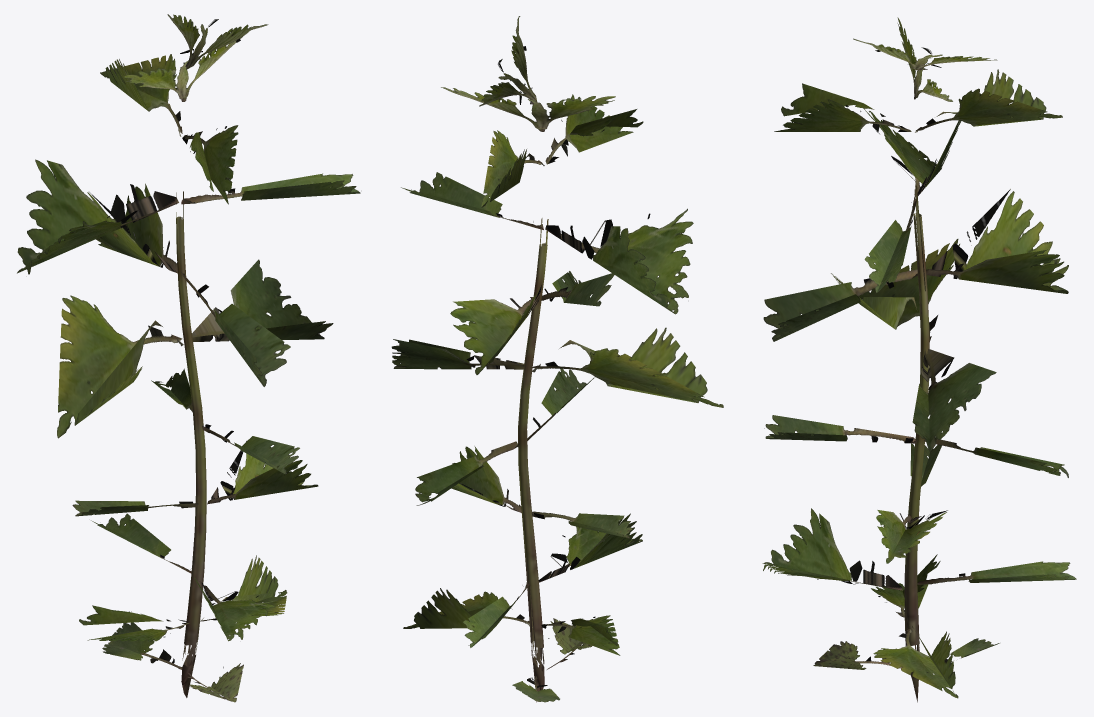
Rendered from Nettle Tall A.glb.
3 renders of one model, left to right at view 1: azimuth 30°, elevation 25°; view 2: azimuth 150°, elevation 25°; view 3: azimuth 270°, elevation 25°, orthographic. The views are drawn at different scales.
Parts seen in each view (by area): view 1: Nettle Tall A; view 2: Nettle Tall A; view 3: Nettle Tall A.
Boxes of the visible parts, x1,y1,x2,y2 form: Nettle Tall A: (17,14,360,702); Nettle Tall A: (391,16,723,702); Nettle Tall A: (762,17,1076,702).
Bounding box in the file's own units: 0.4868 × 1 × 0.4282.
Materials: 1 (1 with a texture image).
